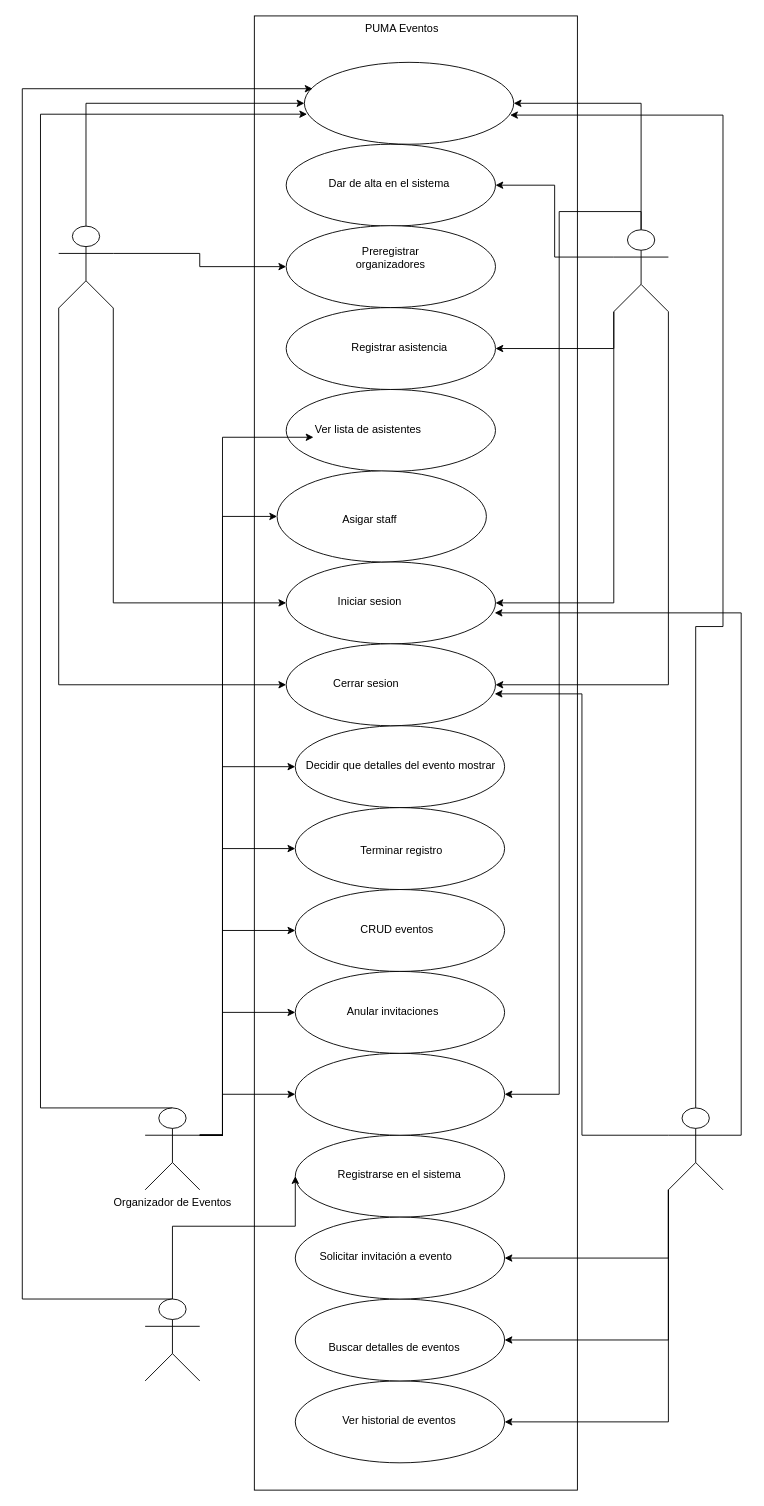
The diagram is 764 pixels wide and 1506 high, and some of its shapes have lost their labels. Here are the shapes that lost their labels. From the top down, the centre of each, then its label:
At point (408, 102): "Ver detalles de eventos".
At point (85, 266): "Administrador".
At point (640, 270): "Staff".
At point (399, 1093): "Ver lista de invitados".
At point (695, 1148): "Usuario registrado".
At point (172, 1339): "Visitante".
